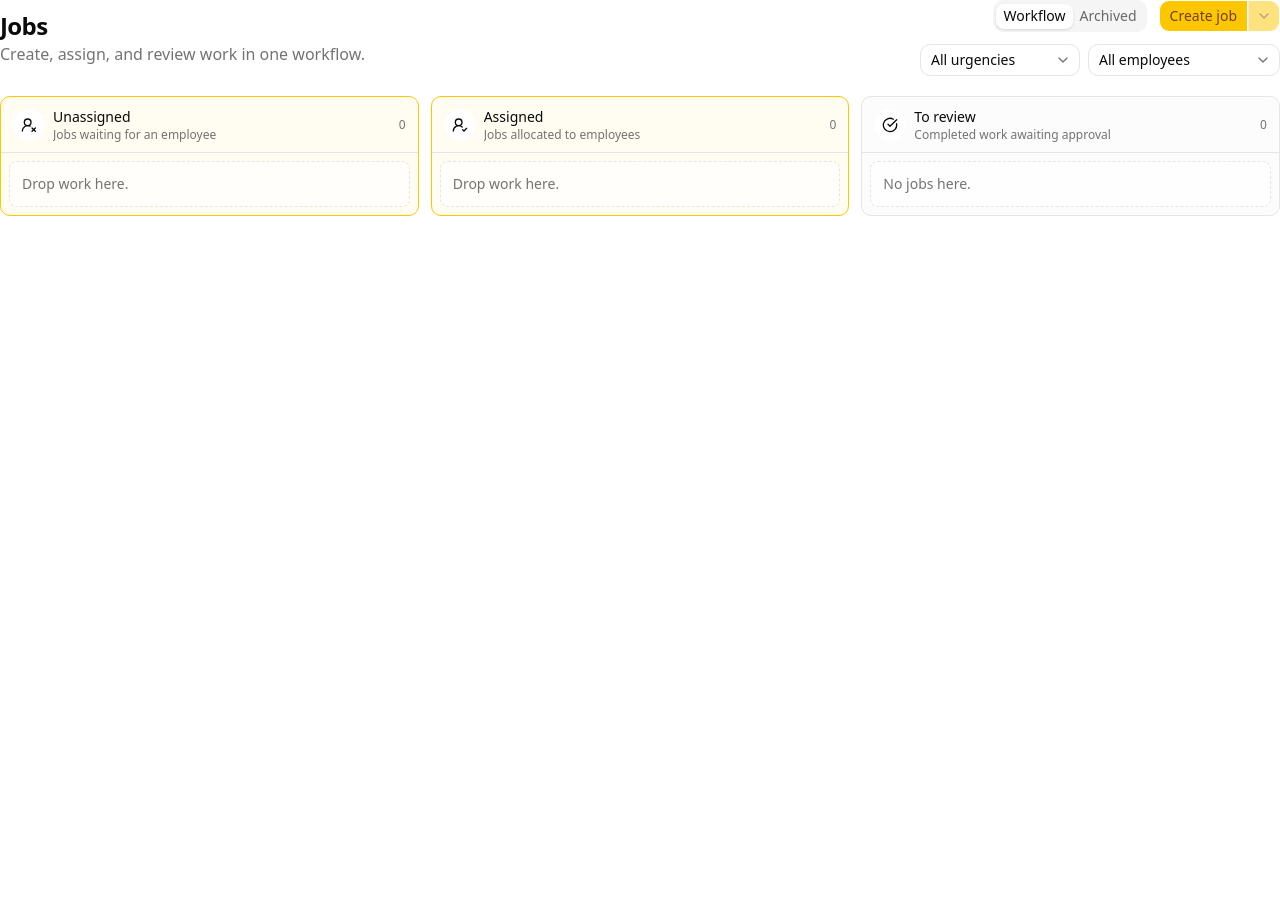
Test: JobWorkspace › schedules a job from the selected employee's rostered shift
The width and height of the screenshot is (1280, 900).
What coordinates should you click on to do the following:
click the button "Create job"
I would click on:
 (1203, 16)
Its box is [1159,0,1248,32].
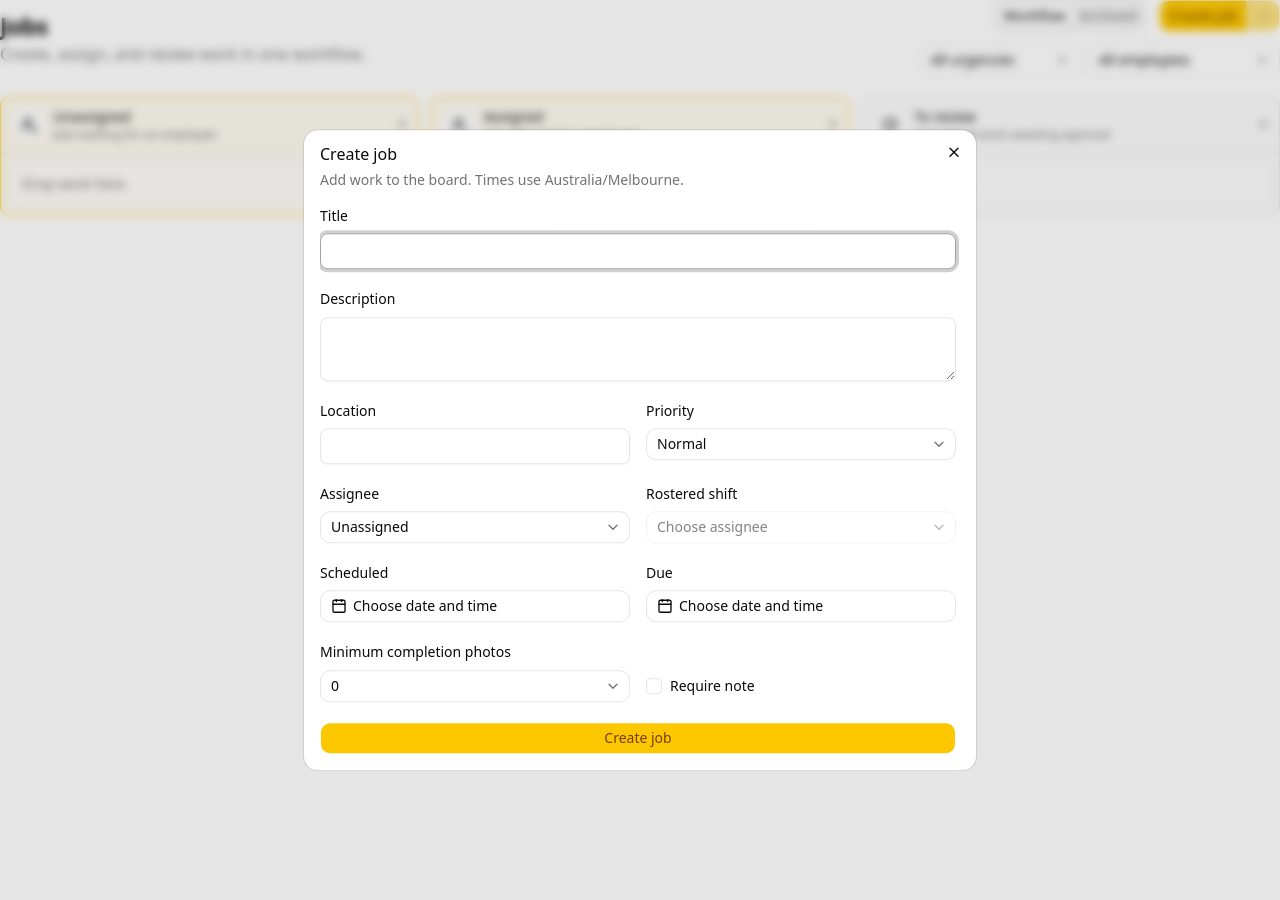
Check: the dropdown named "Rostered shift" is disabled, box [646,511,956,543]
What coordinates should you click on to do the following:
click the dropdown named "Assignee"
I would click on:
 (370, 527)
Its box is [320,511,630,543].
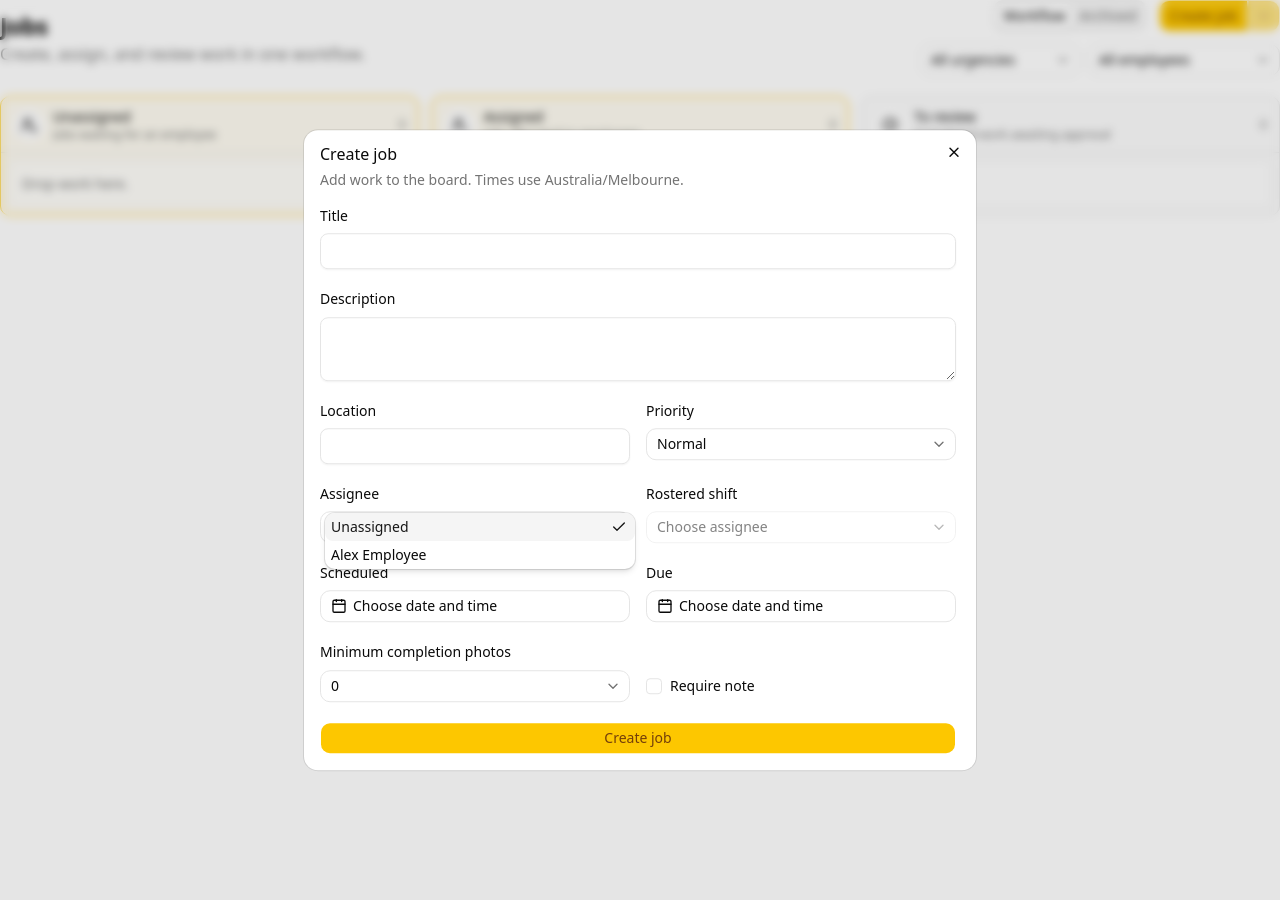
What coordinates should you click on to do the following:
click the option "Alex Employee"
I would click on:
 (379, 555)
Its box is [331,545,426,564].
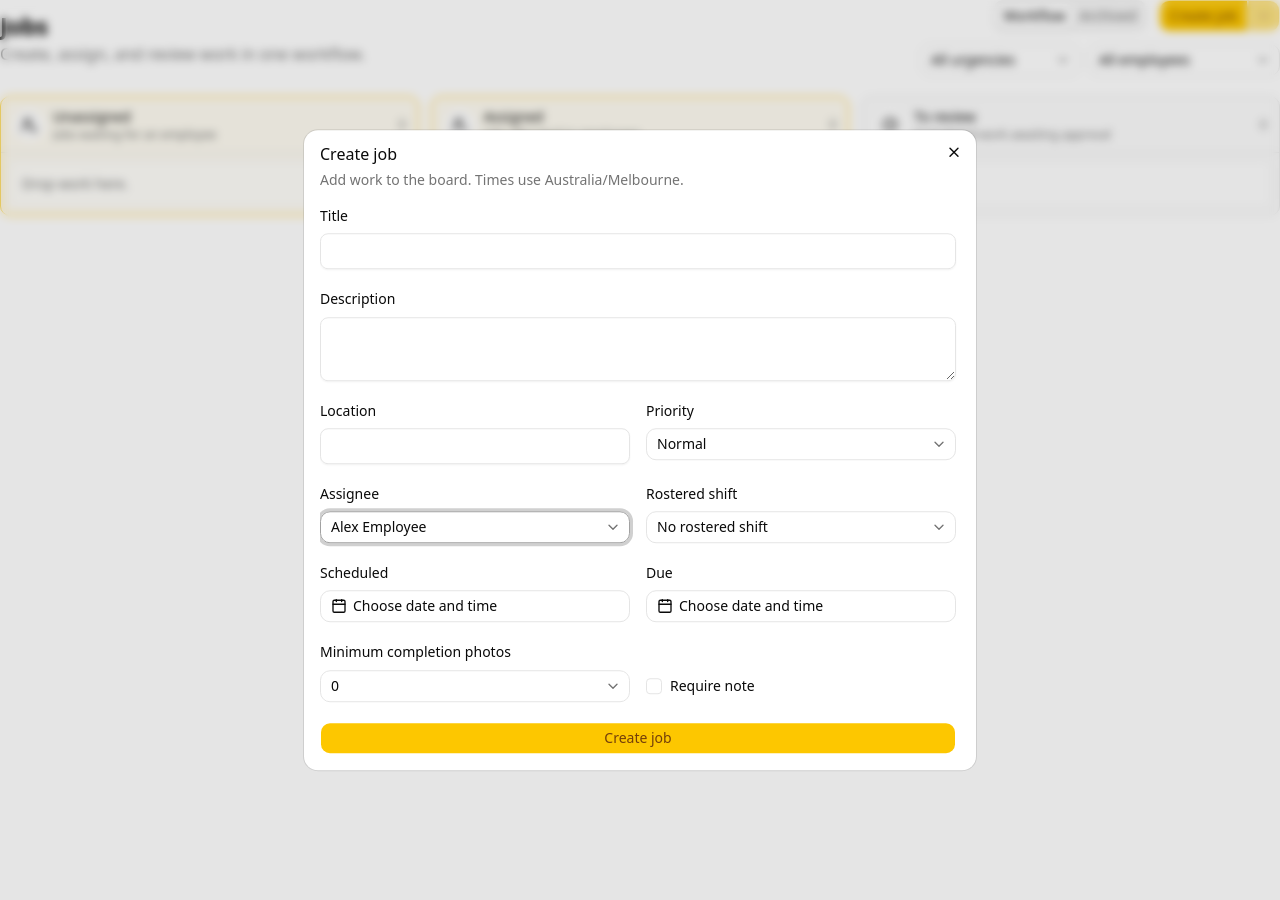
What coordinates should you click on to do the following:
click the dropdown labelled "rostered shift"
I would click on:
 (712, 527)
Its box is [646,511,956,543].
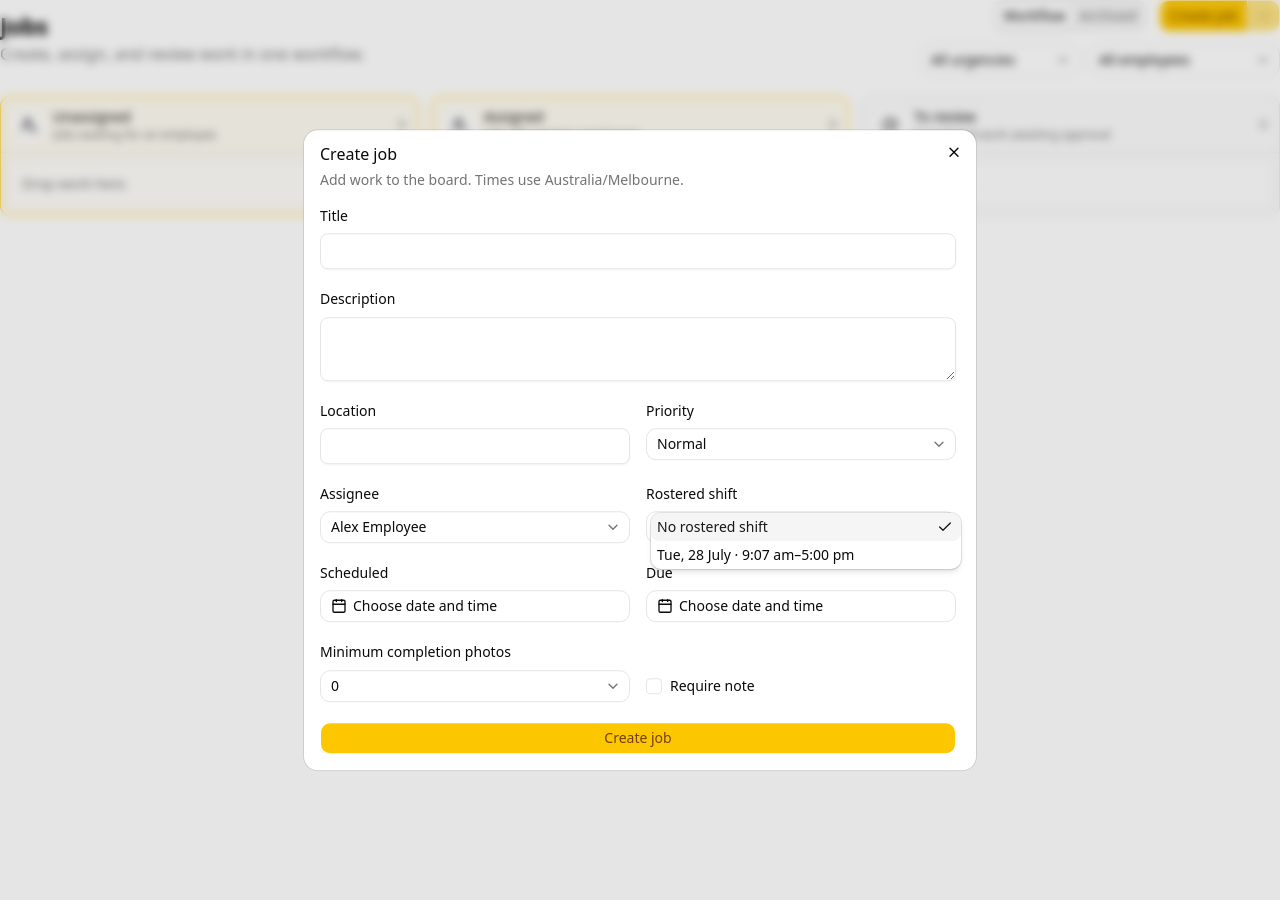
What coordinates should you click on to do the following:
click the option "Tue, 28 July · 9:07 am–5:00 pm"
I would click on:
 (756, 555)
Its box is [657,545,854,564].
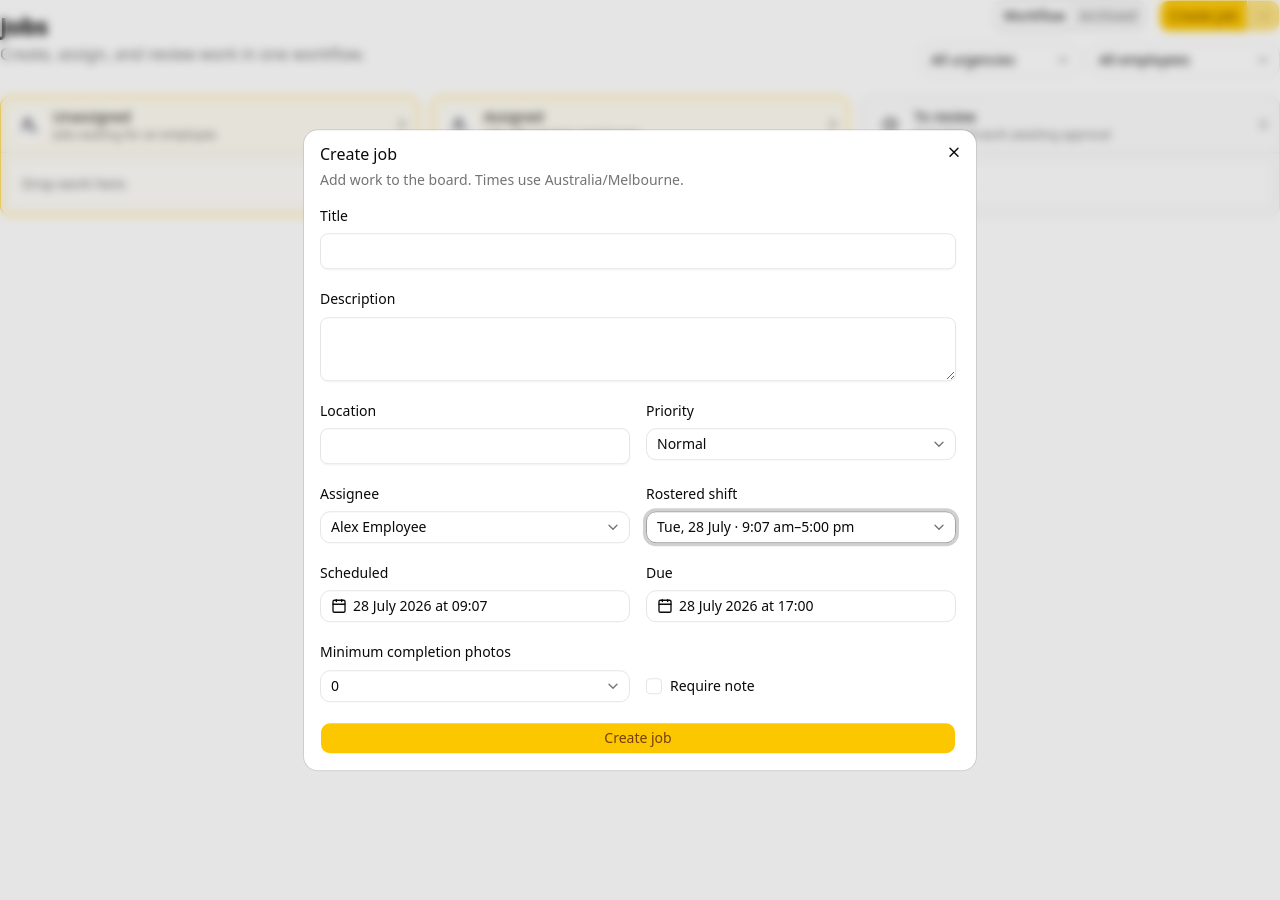
Check: the button named "Scheduled" reads "28 July 2026 at 09:07", box [320,590,630,622]
Check: the button named "Due" reads "28 July 2026 at 17:00", box [646,590,956,622]
